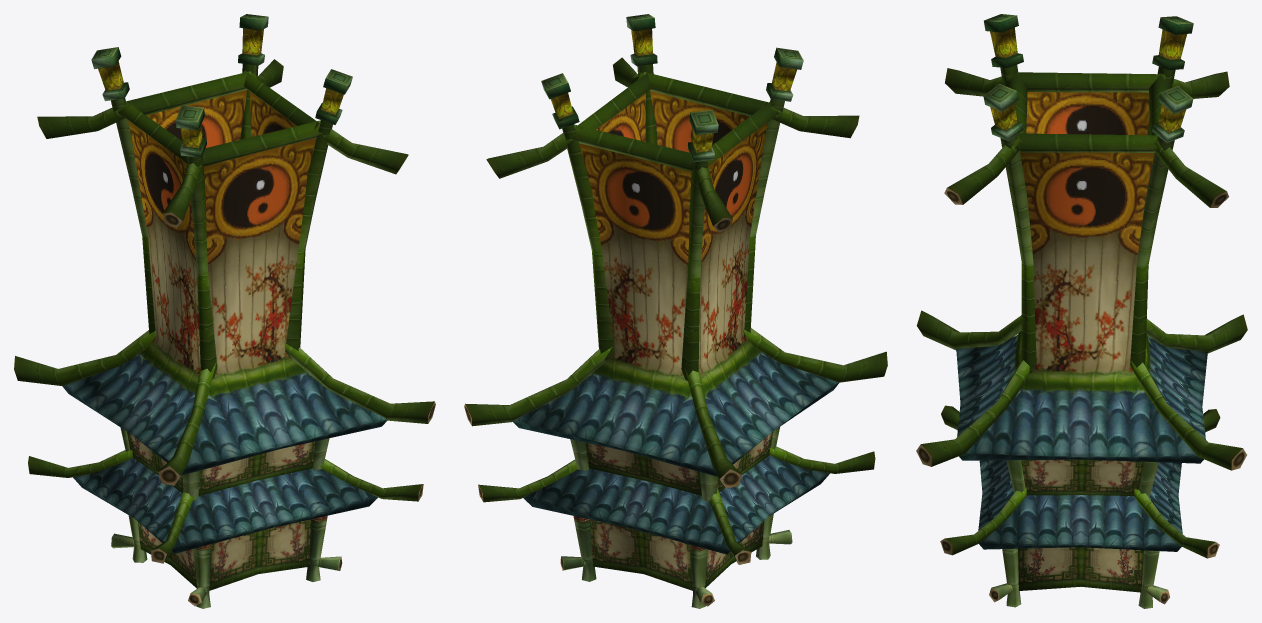
The model's file is environment_building_qingzhufangwu_001_b.FBX.
The picture shows the model from 3 angles, left to right: view 1: azimuth 30°, elevation 25°; view 2: azimuth 150°, elevation 25°; view 3: azimuth 270°, elevation 25°; orthographic projection. The views are drawn at different scales.
Visible parts, largest first — view 1: environment_building_qingzhufangwu_001_h, environment_building_qingzhufangwu_001_i, environment_building_qingzhufangwu_001_d, environment_building_qingzhufangwu_001_c, environment_building_qingzhufangwu_001_e, environment_building_qingzhufangwu_001_a, environment_building_qingzhufangwu_001_g, environment_building_qingzhufangwu_001_f; view 2: environment_building_qingzhufangwu_001_h, environment_building_qingzhufangwu_001_i, environment_building_qingzhufangwu_001_d, environment_building_qingzhufangwu_001_c, environment_building_qingzhufangwu_001_e, environment_building_qingzhufangwu_001_a, environment_building_qingzhufangwu_001_g, environment_building_qingzhufangwu_001_f; view 3: environment_building_qingzhufangwu_001_h, environment_building_qingzhufangwu_001_d, environment_building_qingzhufangwu_001_i, environment_building_qingzhufangwu_001_c, environment_building_qingzhufangwu_001_e, environment_building_qingzhufangwu_001_a, environment_building_qingzhufangwu_001_g, environment_building_qingzhufangwu_001_f.
Boxes of the visible parts, x1,y1,x2,y2 form: environment_building_qingzhufangwu_001_h: [128, 90, 316, 396]; environment_building_qingzhufangwu_001_i: [37, 59, 408, 379]; environment_building_qingzhufangwu_001_d: [62, 354, 386, 474]; environment_building_qingzhufangwu_001_c: [73, 458, 377, 553]; environment_building_qingzhufangwu_001_e: [14, 330, 434, 562]; environment_building_qingzhufangwu_001_a: [127, 432, 315, 590]; environment_building_qingzhufangwu_001_g: [91, 14, 352, 227]; environment_building_qingzhufangwu_001_f: [111, 401, 435, 608]; environment_building_qingzhufangwu_001_h: [579, 91, 767, 397]; environment_building_qingzhufangwu_001_i: [486, 57, 859, 380]; environment_building_qingzhufangwu_001_d: [513, 352, 839, 476]; environment_building_qingzhufangwu_001_c: [523, 455, 829, 554]; environment_building_qingzhufangwu_001_e: [465, 328, 887, 563]; environment_building_qingzhufangwu_001_a: [585, 431, 773, 590]; environment_building_qingzhufangwu_001_g: [541, 14, 803, 232]; environment_building_qingzhufangwu_001_f: [464, 404, 792, 608]; environment_building_qingzhufangwu_001_h: [1014, 92, 1154, 392]; environment_building_qingzhufangwu_001_d: [956, 335, 1207, 463]; environment_building_qingzhufangwu_001_i: [945, 64, 1229, 374]; environment_building_qingzhufangwu_001_c: [978, 460, 1182, 551]; environment_building_qingzhufangwu_001_e: [916, 310, 1247, 558]; environment_building_qingzhufangwu_001_a: [1018, 459, 1143, 592]; environment_building_qingzhufangwu_001_g: [944, 14, 1228, 207]; environment_building_qingzhufangwu_001_f: [916, 444, 1246, 608].
Size of the model in its own units: 216 by 376 by 215.
5 materials, 5 textured.
